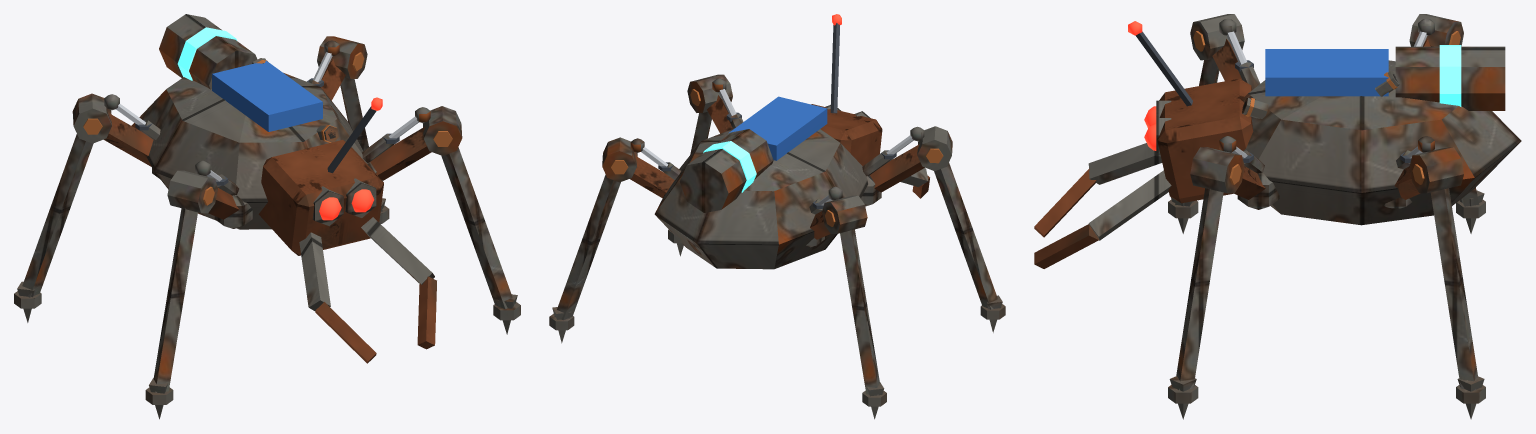
The model's file is drone.glb.
The picture shows the model from 3 angles, left to right: view 1: azimuth 30°, elevation 25°; view 2: azimuth 150°, elevation 25°; view 3: azimuth 270°, elevation 25°; orthographic projection. The views are drawn at different scales.
Parts seen in each view (by area): view 1: drone, zleg_0_r, zshin_0_l, zshin_1_l, zshin_0_r, zleg_1_l, zleg_0_l, zleg_1_r, zshin_1_r; view 2: drone, zleg_0_l, zshin_0_l, zshin_1_l, zshin_1_r, zleg_1_r, zleg_1_l, zleg_0_r, zshin_0_r; view 3: drone, zshin_0_r, zshin_1_r, zleg_0_r, zleg_1_r, zleg_0_l, zleg_1_l, zshin_0_l, zshin_1_l.
Boxes of the visible parts, x1,y1,x2,y2 form: drone: (131,14,436,363); zleg_0_r: (362,106,462,180); zshin_0_l: (145,208,197,419); zshin_1_l: (14,134,93,322); zshin_0_r: (441,147,520,334); zleg_1_l: (72,93,160,179); zleg_0_l: (167,160,252,228); zleg_1_r: (307,36,367,100); zshin_1_r: (340,77,389,223); drone: (654,14,929,269); zleg_0_l: (861,126,952,206); zshin_0_l: (934,163,1005,332); zshin_1_l: (840,229,886,419); zshin_1_r: (549,174,620,343); zleg_1_r: (602,137,681,198); zleg_1_l: (806,186,867,247); zleg_0_r: (687,74,743,133); zshin_0_r: (668,111,711,256); drone: (1034,21,1521,268); zshin_0_r: (1168,188,1223,419); zshin_1_r: (1430,188,1485,419); zleg_0_r: (1190,136,1279,209); zleg_1_r: (1384,136,1463,208); zleg_0_l: (1190,14,1260,89); zleg_1_l: (1409,14,1463,46); zshin_0_l: (1168,58,1219,233); zshin_1_l: (1456,187,1485,233).
Bounding box in the file's own units: 0.6796 × 0.512 × 0.7114.
Materials: 9 (2 with a texture image).
